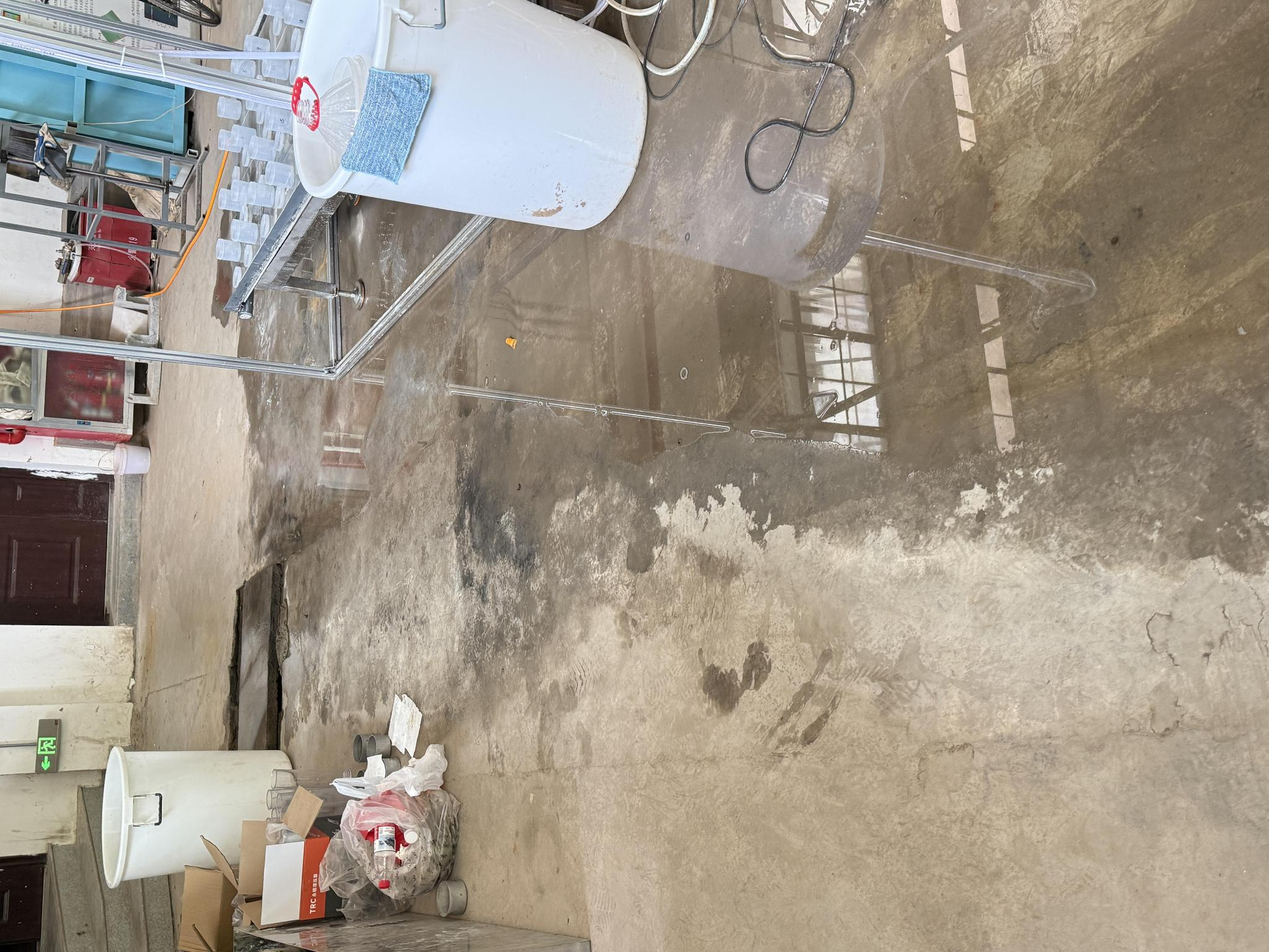water accumulation: (239, 0, 1269, 564)
